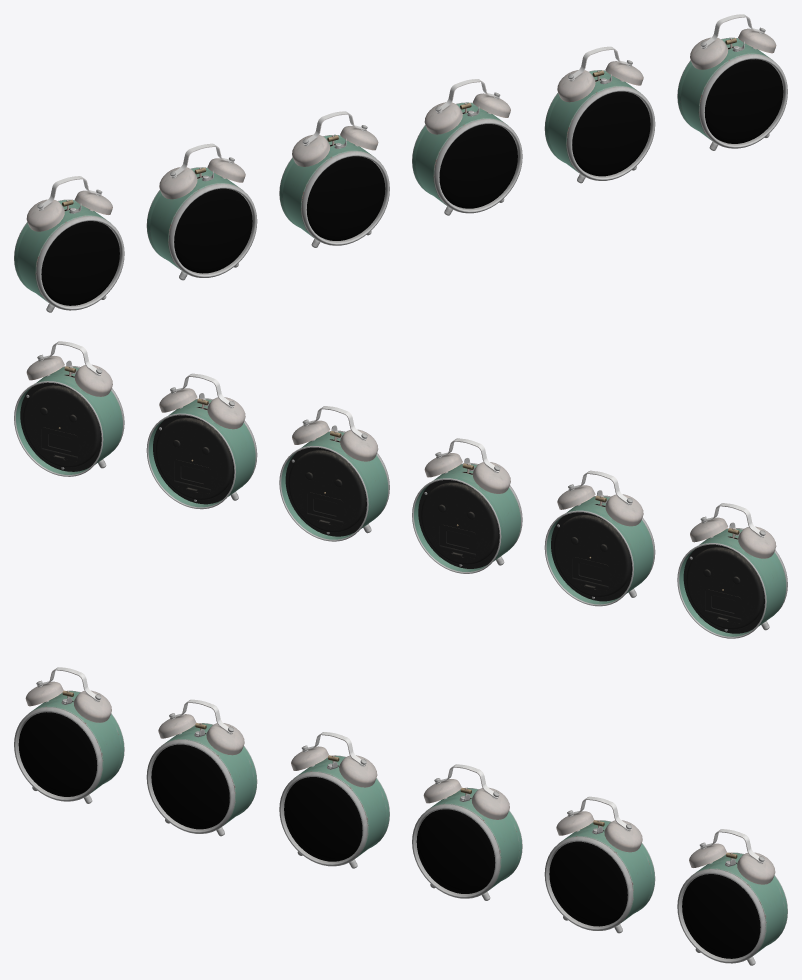
File: stock_alarm_clocks_row.glb
The picture shows the model from 3 angles, top to bottom: view 1: azimuth 30°, elevation 25°; view 2: azimuth 150°, elevation 25°; view 3: azimuth 330°, elevation 25°; orthographic projection.
Parts seen in each view (by area): view 1: alarm_clock_01.003, alarm_clock_01.005, alarm_clock_01, alarm_clock_01.002, alarm_clock_01.004, alarm_clock_01.001; view 2: alarm_clock_01.005, alarm_clock_01.002, alarm_clock_01.003, alarm_clock_01, alarm_clock_01.004, alarm_clock_01.001; view 3: alarm_clock_01.002, alarm_clock_01, alarm_clock_01.005, alarm_clock_01.003, alarm_clock_01.001, alarm_clock_01.004.
Boxes of the visible parts, x1,y1,x2,y2 form: alarm_clock_01.003: (412,79,522,215); alarm_clock_01.005: (677,14,787,150); alarm_clock_01: (14,176,124,312); alarm_clock_01.002: (279,111,389,247); alarm_clock_01.004: (544,46,655,183); alarm_clock_01.001: (146,143,257,280); alarm_clock_01.005: (14,341,124,476); alarm_clock_01.002: (412,438,522,573); alarm_clock_01.003: (279,406,389,541); alarm_clock_01: (677,503,787,638); alarm_clock_01.004: (146,373,257,509); alarm_clock_01.001: (544,470,655,606); alarm_clock_01.002: (279,732,389,868); alarm_clock_01: (14,667,124,803); alarm_clock_01.005: (677,829,787,965); alarm_clock_01.003: (412,764,522,900); alarm_clock_01.001: (146,699,257,836); alarm_clock_01.004: (544,796,655,933).
Size of the model in its own units: 1.02 by 0.16 by 0.0613.
Materials: 12 (12 with a texture image).
